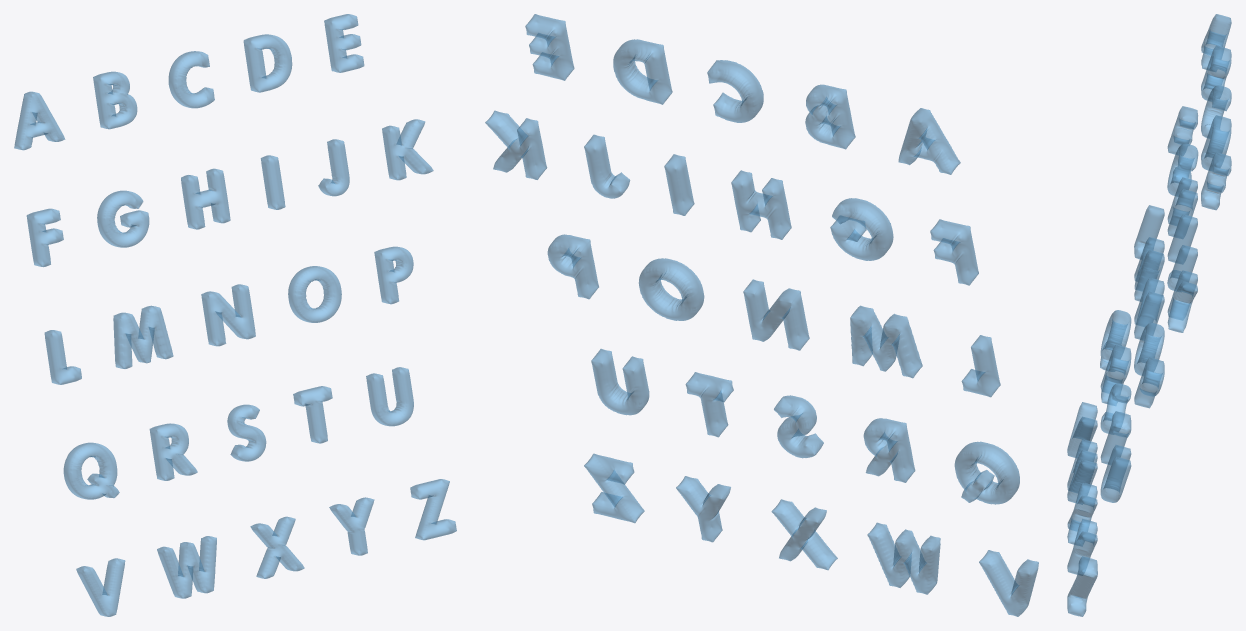
Rendered from alphabet2.glb.
The picture shows the model from 3 angles, left to right: view 1: azimuth 30°, elevation 25°; view 2: azimuth 150°, elevation 25°; view 3: azimuth 270°, elevation 25°; orthographic projection. The views are drawn at different scales.
Visible parts, largest first — view 1: Text; view 2: Text; view 3: Text.
Part boxes in pixels (<box>): Text: <box>14,14,456,616</box>; Text: <box>485,14,1038,616</box>; Text: <box>1067,14,1231,616</box>.
Bounding box in the file's own units: 3.41 × 3.86 × 1.29.
